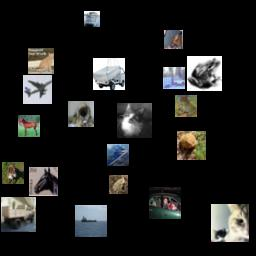airplane: (23, 75, 52, 104), (107, 144, 129, 166)
automobile: (149, 187, 181, 219)
cat: (211, 204, 249, 242), (117, 103, 152, 138), (28, 48, 54, 74)
deer: (164, 30, 183, 49)
dog: (68, 101, 94, 127), (2, 162, 24, 184)
frog: (187, 56, 222, 91), (177, 131, 206, 160), (175, 95, 197, 117), (109, 175, 128, 194)
ship: (75, 205, 107, 237), (84, 11, 100, 27)
truck: (1, 197, 36, 232), (93, 58, 125, 90), (163, 67, 185, 89)
